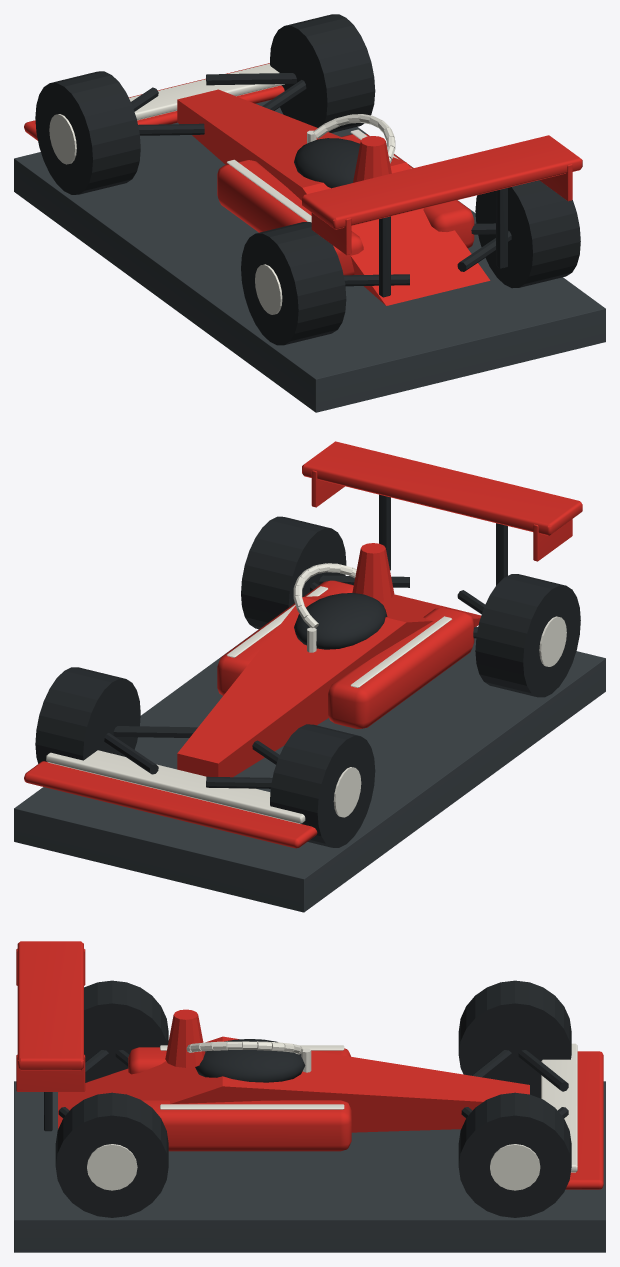
The model's file is ferrari_v06c.glb.
3 renders of one model, top to bottom at view 1: azimuth 30°, elevation 25°; view 2: azimuth 150°, elevation 25°; view 3: azimuth 270°, elevation 25°, orthographic. The views are drawn at different scales.
Parts seen in each view (by area): view 1: VIS_Ferrari, VIS_FerrariPlinth; view 2: VIS_Ferrari, VIS_FerrariPlinth; view 3: VIS_Ferrari, VIS_FerrariPlinth.
Boxes of the visible parts, x1,y1,x2,y2 form: VIS_Ferrari: (24,14,582,345); VIS_FerrariPlinth: (14,100,605,412); VIS_Ferrari: (24,441,582,848); VIS_FerrariPlinth: (14,626,605,912); VIS_Ferrari: (16,941,603,1217); VIS_FerrariPlinth: (14,1081,605,1252).
Size of the model in its own units: 0.412 by 0.2543 by 0.7422.
